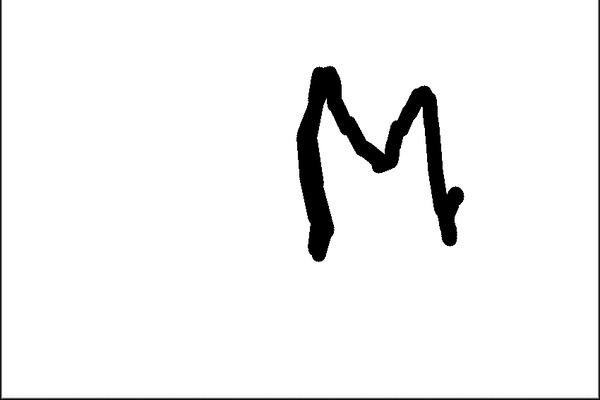M: (290, 61, 466, 262)
